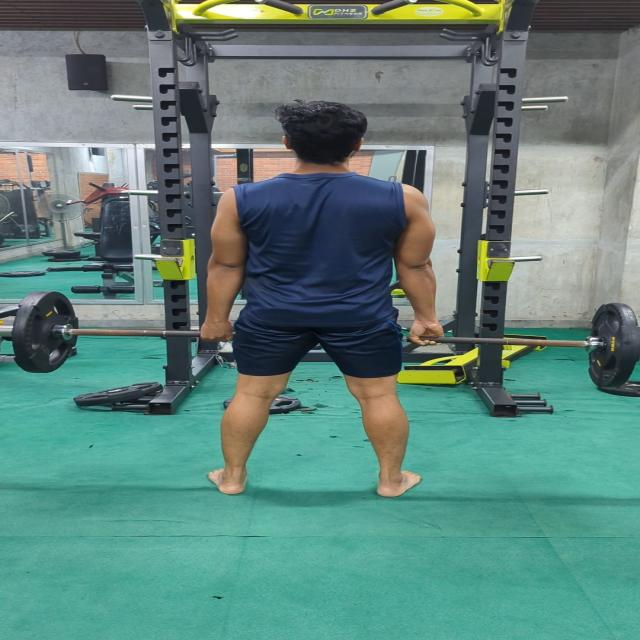Normal_Deadlifts: (198, 100, 445, 499)
